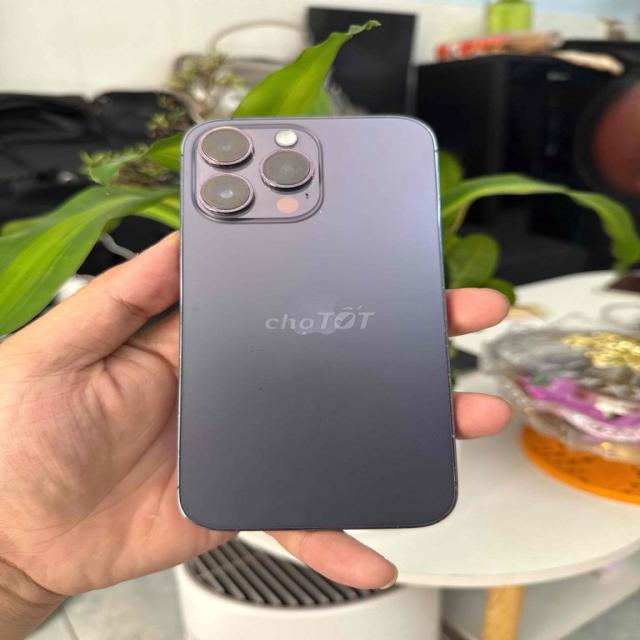gen_14: (173, 114, 468, 536)
